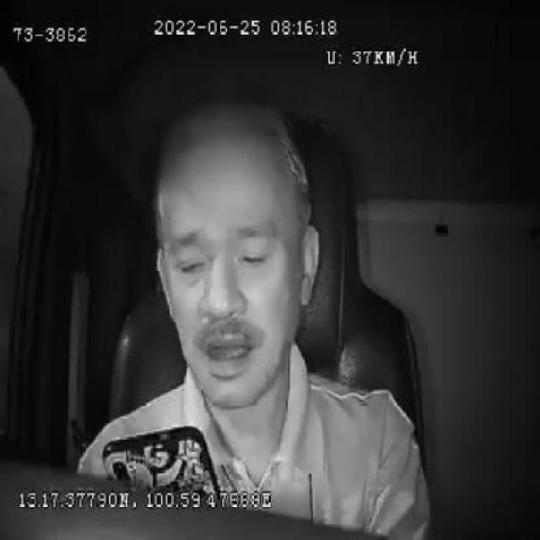phone: (103, 424, 223, 490)
